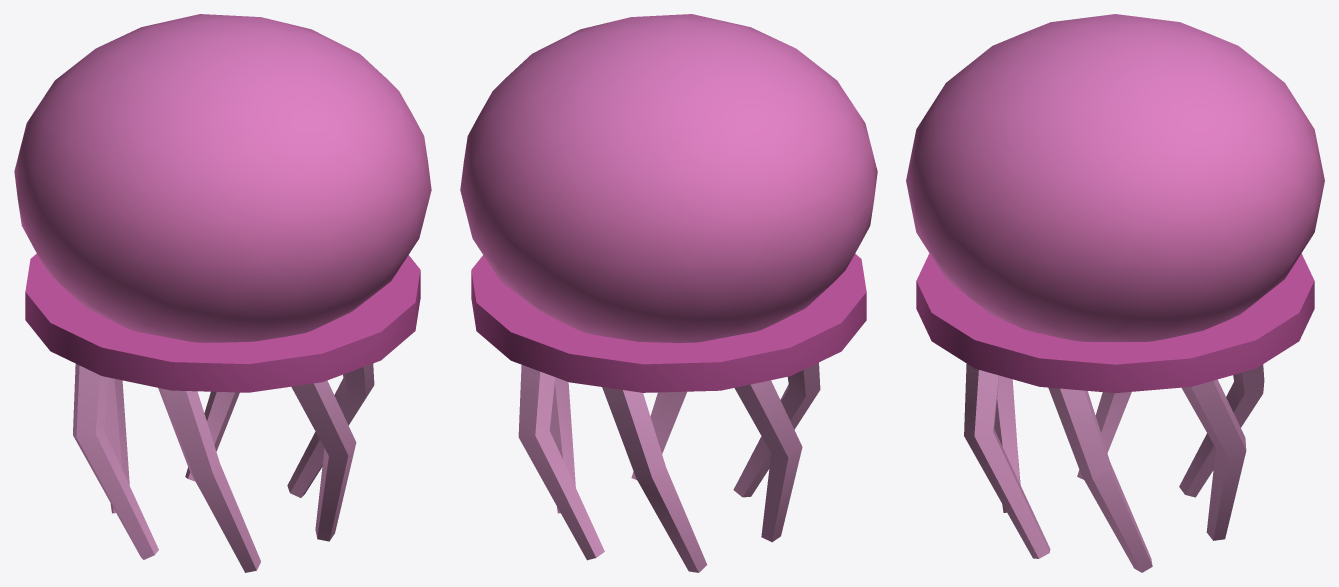
Rendered from w_n_jelly.glb.
The picture shows the model from 3 angles, left to right: view 1: azimuth 30°, elevation 25°; view 2: azimuth 150°, elevation 25°; view 3: azimuth 270°, elevation 25°; orthographic projection.
Parts seen in each view (by area): view 1: body; view 2: body; view 3: body.
Part boxes in pixels (box(x1,y1,x2,y2)): body: box(14, 14, 431, 572); body: box(460, 14, 877, 572); body: box(906, 14, 1324, 572).
Bounding box in the file's own units: 0.18 × 0.2316 × 0.18.
